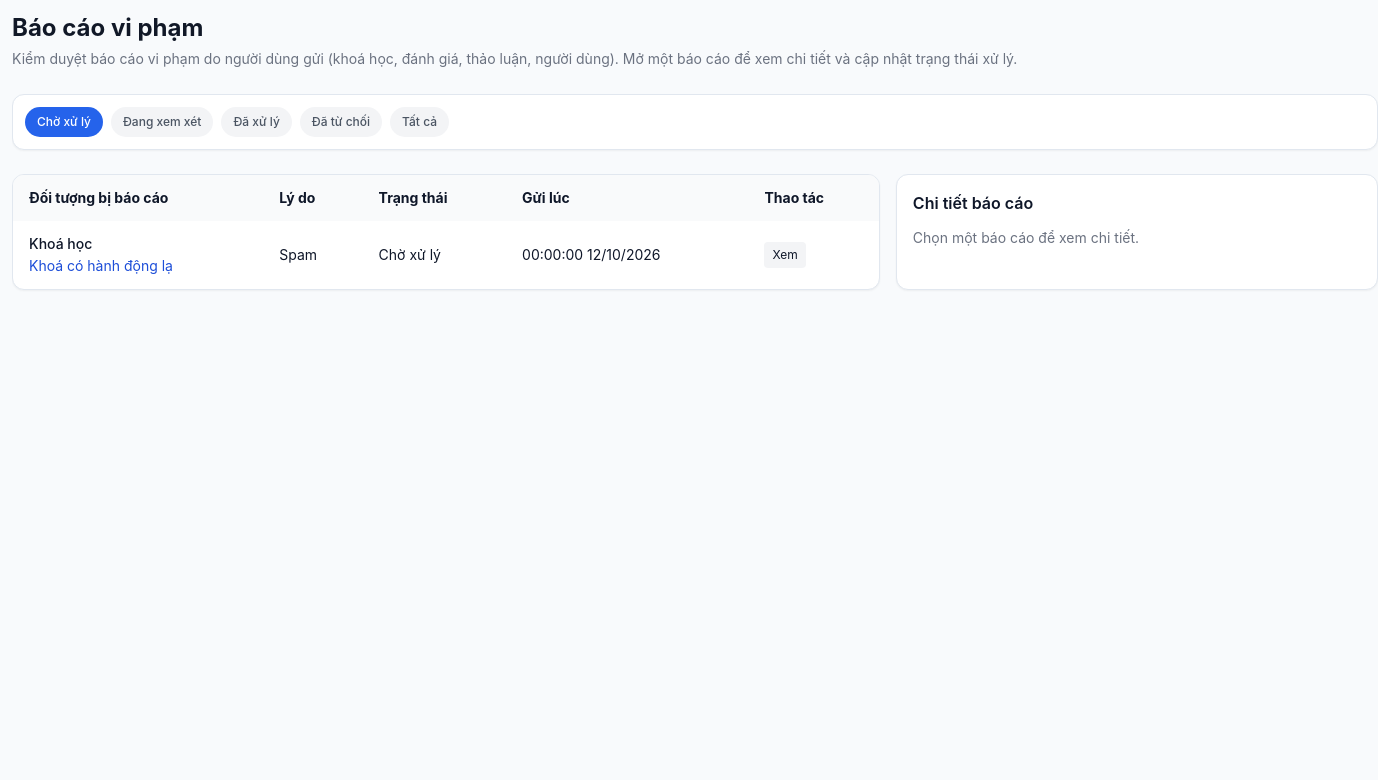
Test: /admin/moderation — độ bền của khối 'Xử lý đối tượng' (review QA2 #5, #6) › #5: available_actions có giá trị web chưa biết (vd. ban_user) -> không crash, chỉ hiện nút đã biết
Expected: the link "Khoá có hành động lạ" is shown, [29,257,173,274]
What coordinates should you click on to do the following:
click the button "Xem"
I would click on:
 (785, 255)
Its box is [764,242,806,268].
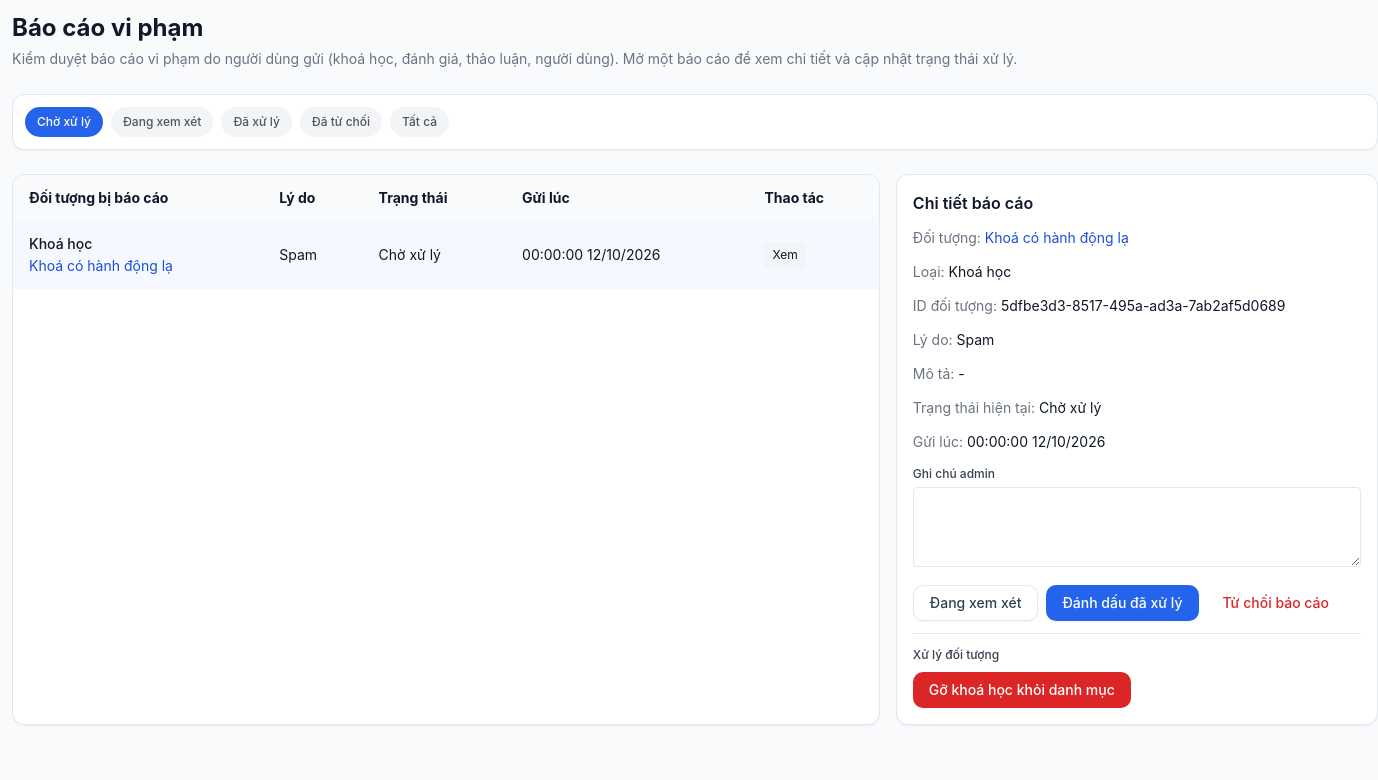
Result: the number of buttons "Gỡ khoá học khỏi danh mục" is 1 at [913,672,1131,708]
